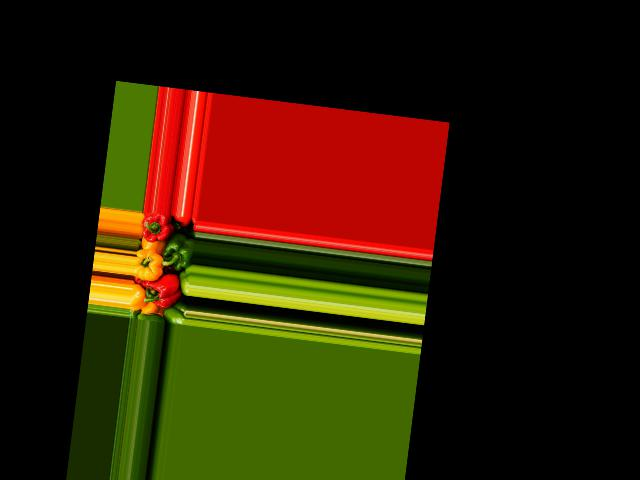bell_pepper: (139, 212, 175, 248)
